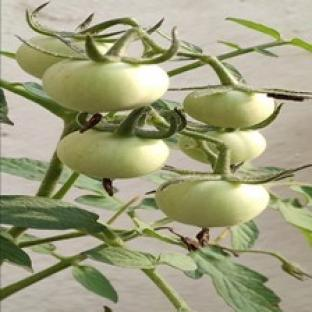Tomato: (44, 60, 168, 112), (155, 180, 268, 228), (58, 130, 169, 178), (184, 91, 274, 128), (205, 130, 266, 164), (16, 44, 64, 77)
